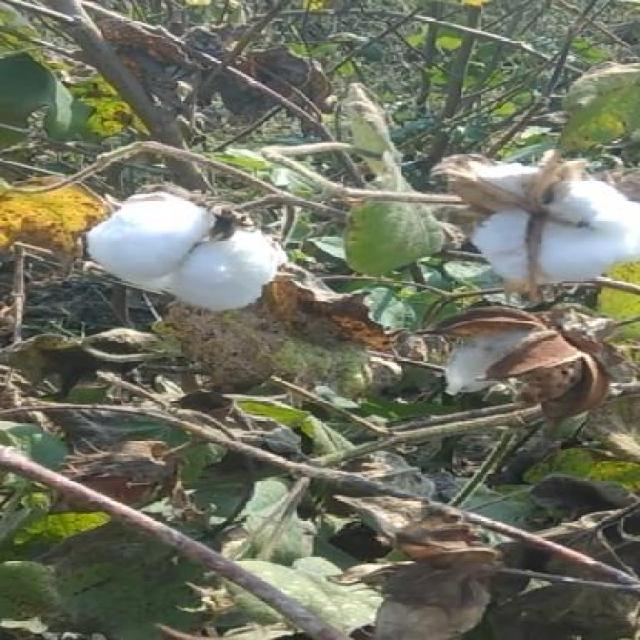cotton_ready: (76, 169, 322, 329), (439, 148, 639, 318)
